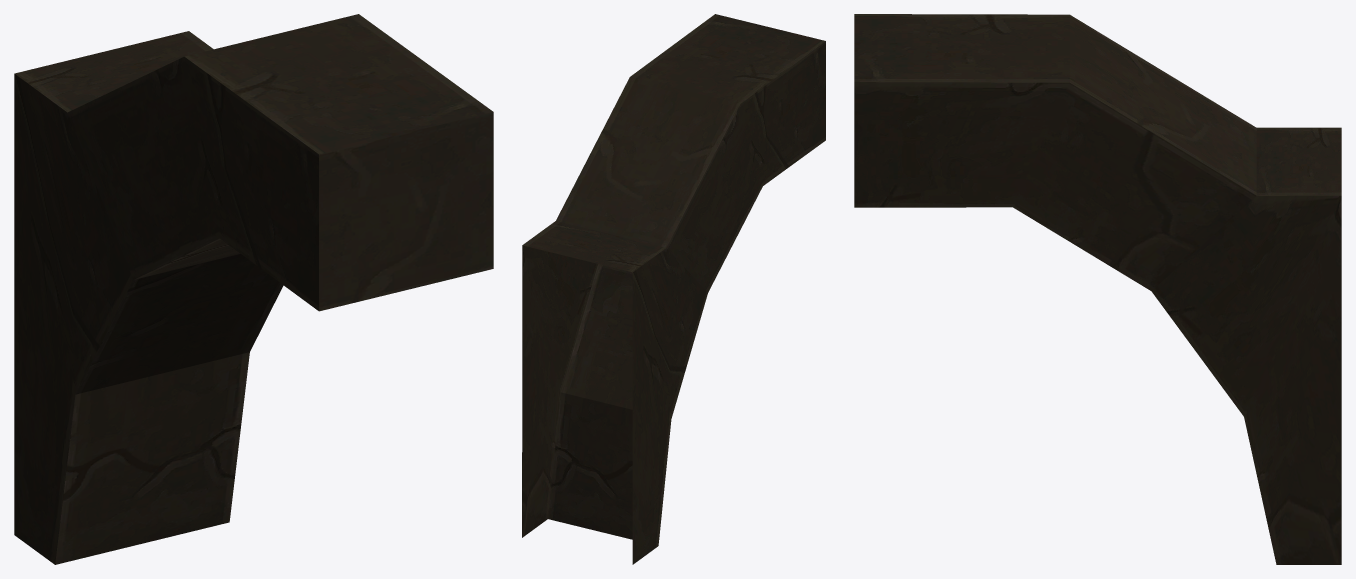
The model's file is fortress_arch_02.fbx.
3 renders of one model, left to right at view 1: azimuth 30°, elevation 25°; view 2: azimuth 150°, elevation 25°; view 3: azimuth 270°, elevation 25°, orthographic. The views are drawn at different scales.
Parts seen in each view (by area): view 1: fortress_tileset/wall_01_mat; view 2: fortress_tileset/wall_01_mat; view 3: fortress_tileset/wall_01_mat.
Part boxes in pixels (box(x1,y1,x2,y2)): fortress_tileset/wall_01_mat: box(14, 14, 493, 564); fortress_tileset/wall_01_mat: box(522, 14, 825, 564); fortress_tileset/wall_01_mat: box(854, 14, 1341, 564).
Size of the model in its own units: 1.17 by 3.88 by 3.55.
